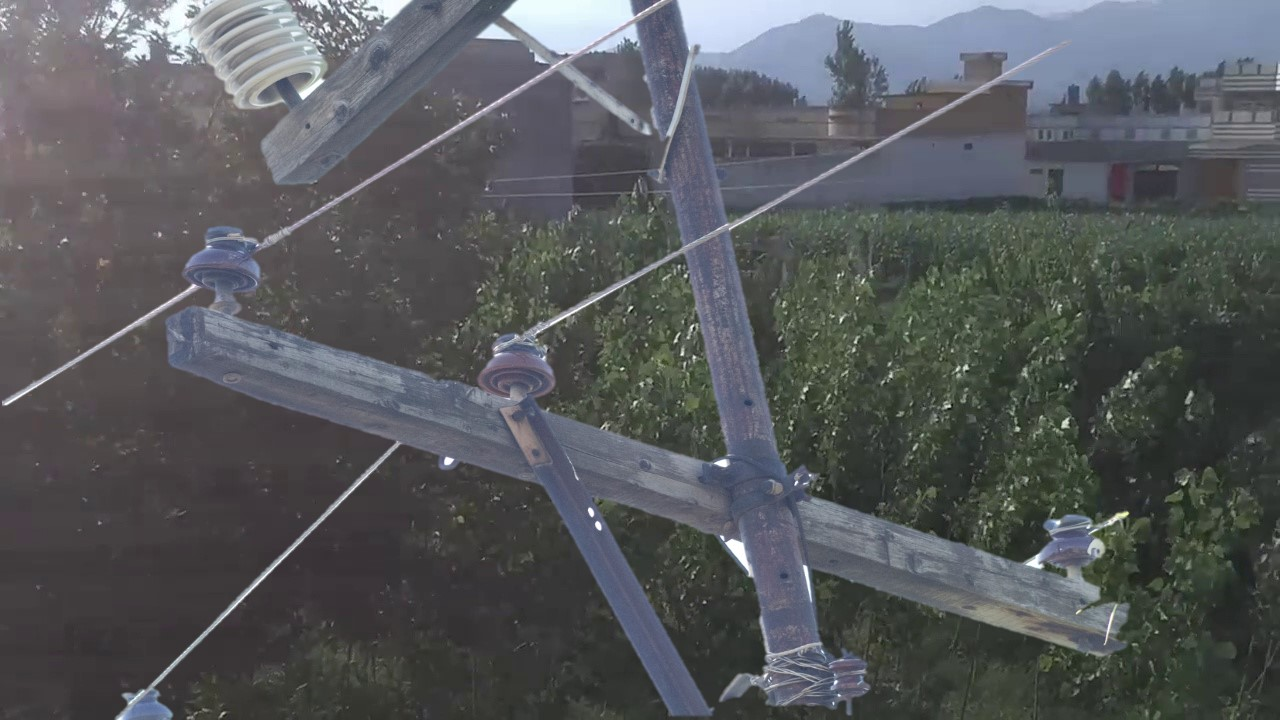defect_pin: (1033, 510, 1116, 575)
insulator_pin: (179, 220, 270, 300), (473, 330, 567, 405)
